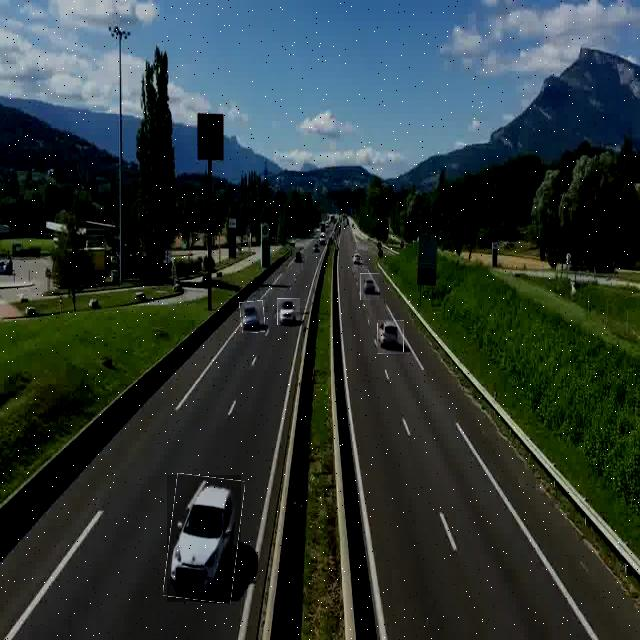Car: (167, 475, 241, 602), (378, 320, 404, 354), (240, 300, 265, 332), (277, 298, 300, 325), (360, 273, 379, 300), (353, 250, 368, 272)
